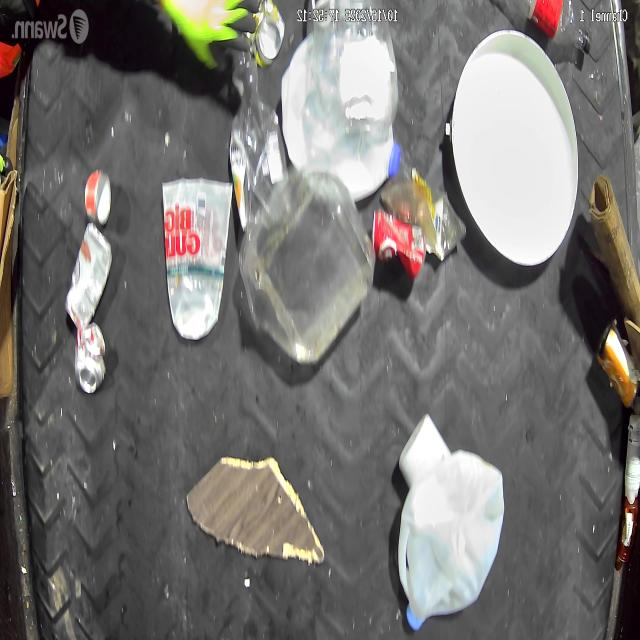can: (64, 221, 111, 329), (595, 321, 640, 409), (372, 210, 426, 280), (246, 0, 285, 70), (73, 323, 106, 394)
milk_jug: (282, 33, 401, 206), (396, 448, 506, 632)
plastic_bottle: (520, 0, 592, 56)
